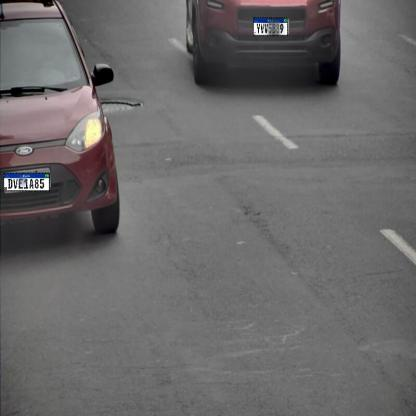PlacaM: (3, 173, 50, 191), (253, 17, 288, 36)
